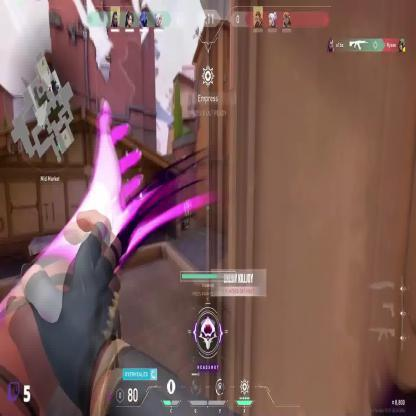enemy: (182, 198, 191, 231)
enemy_head: (185, 199, 188, 206)
